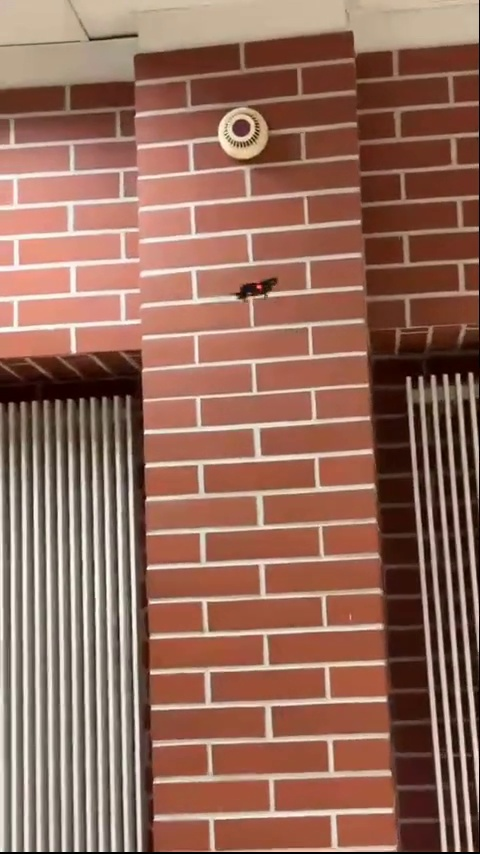drone: (241, 277, 279, 302)
